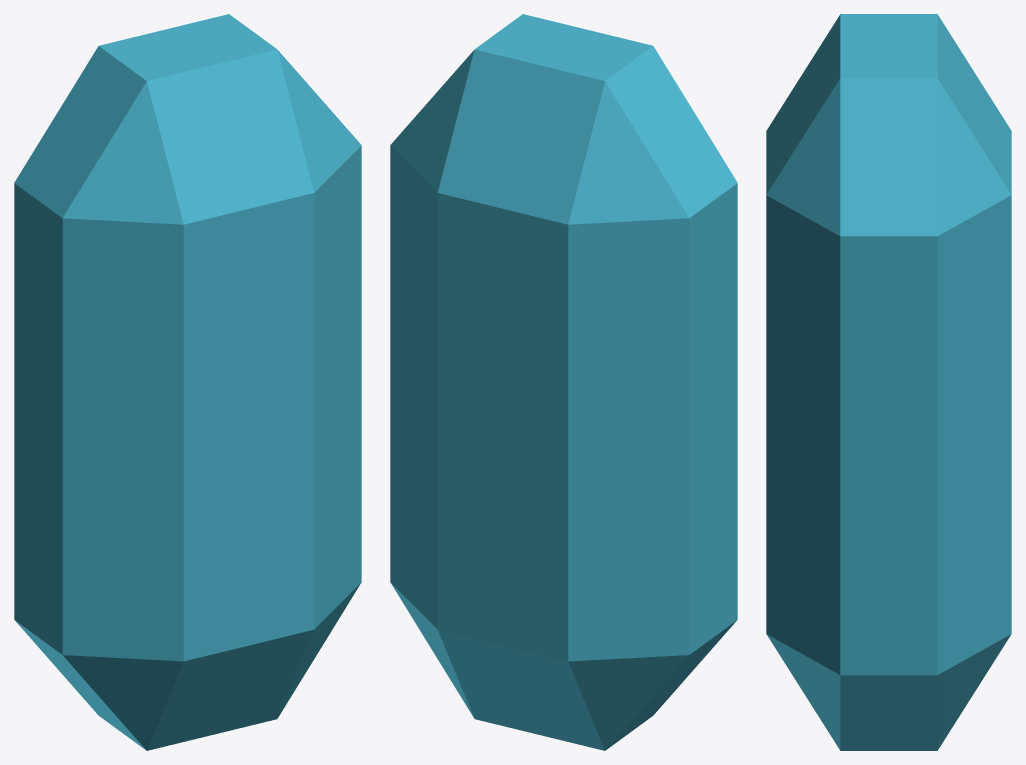
Rendered from gem.glb.
3 renders of one model, left to right at view 1: azimuth 30°, elevation 25°; view 2: azimuth 150°, elevation 25°; view 3: azimuth 270°, elevation 25°, orthographic.
Visible parts, largest first — view 1: UI_Gem_Blue; view 2: UI_Gem_Blue; view 3: UI_Gem_Blue.
Part boxes in pixels (x1,y1,x2,y2): UI_Gem_Blue: [14, 14, 361, 750]; UI_Gem_Blue: [390, 14, 737, 750]; UI_Gem_Blue: [766, 14, 1011, 750].
Bounding box in the file's own units: 0.369 × 0.7892 × 0.2608.
Materials: 1 (1 with a texture image).
